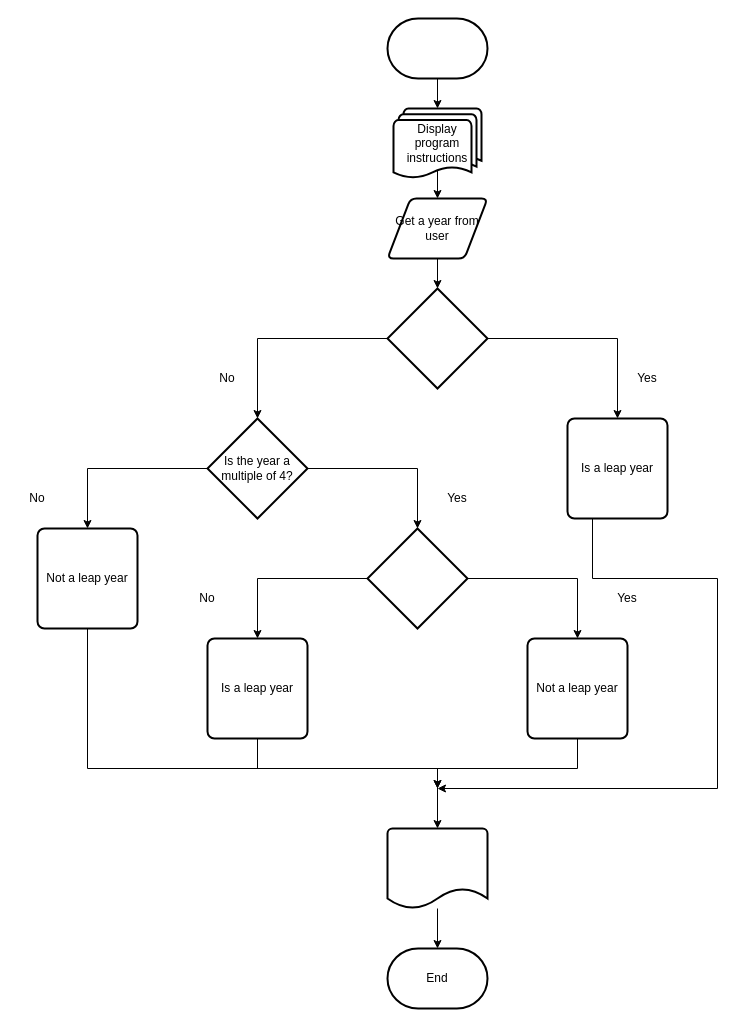
Some shapes in this 743 by 1026 pixel diagram are drawn without their labels. Here are the shapes that lost their labels. From the top down, the centre of each, then its label:
point 437,48: Start
point 437,338: Is the year number a multiple of 400?
point 417,578: Is the year a multiple of 100?
point 437,868: Display message "<year> is </not> a leap year
